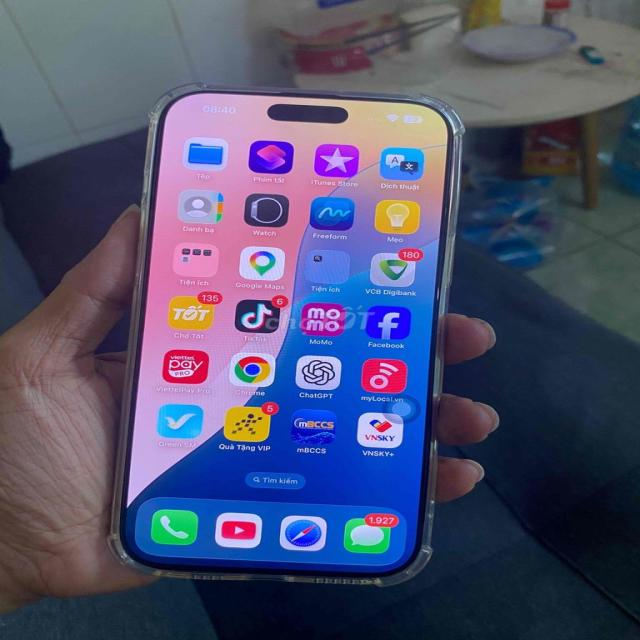gen_16: (114, 78, 470, 592)
